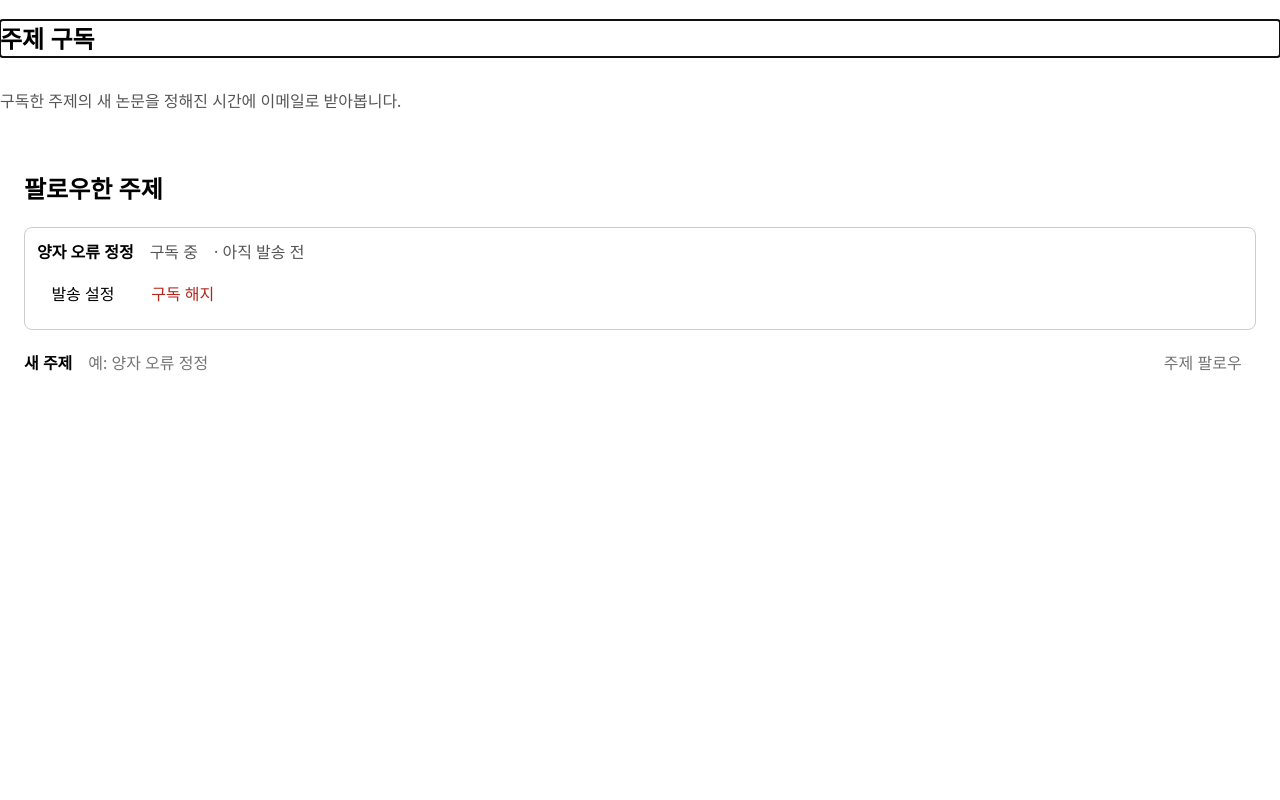
digest settings form › offers a reload on a stale revision instead of an overwriting retry
Click the button with test id "settings-link". click: (83, 295)
box: left=37, top=273, right=129, bottom=317
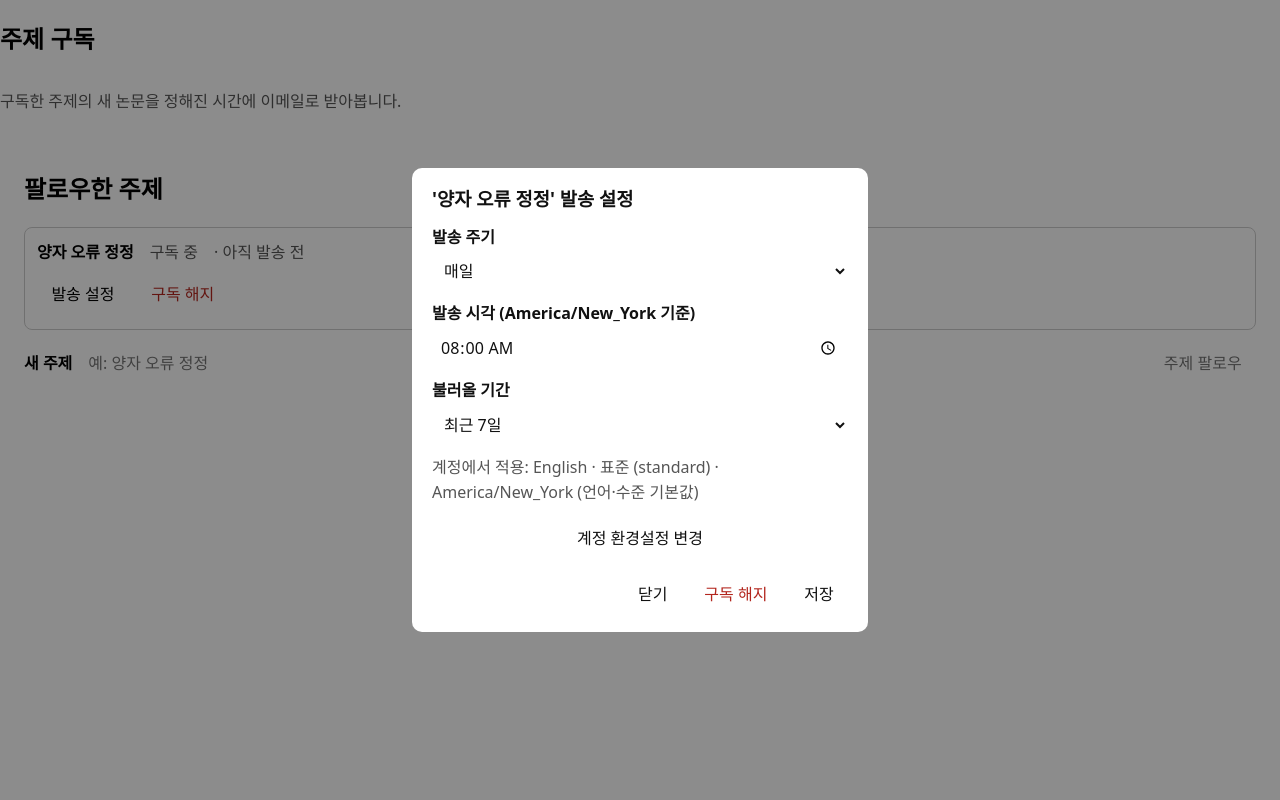
expect the dialog with test id "settings-form" is shown: met, box left=412, top=168, right=868, bottom=632
Click the button with test id "save-button". click: (819, 594)
box: left=790, top=572, right=848, bottom=616
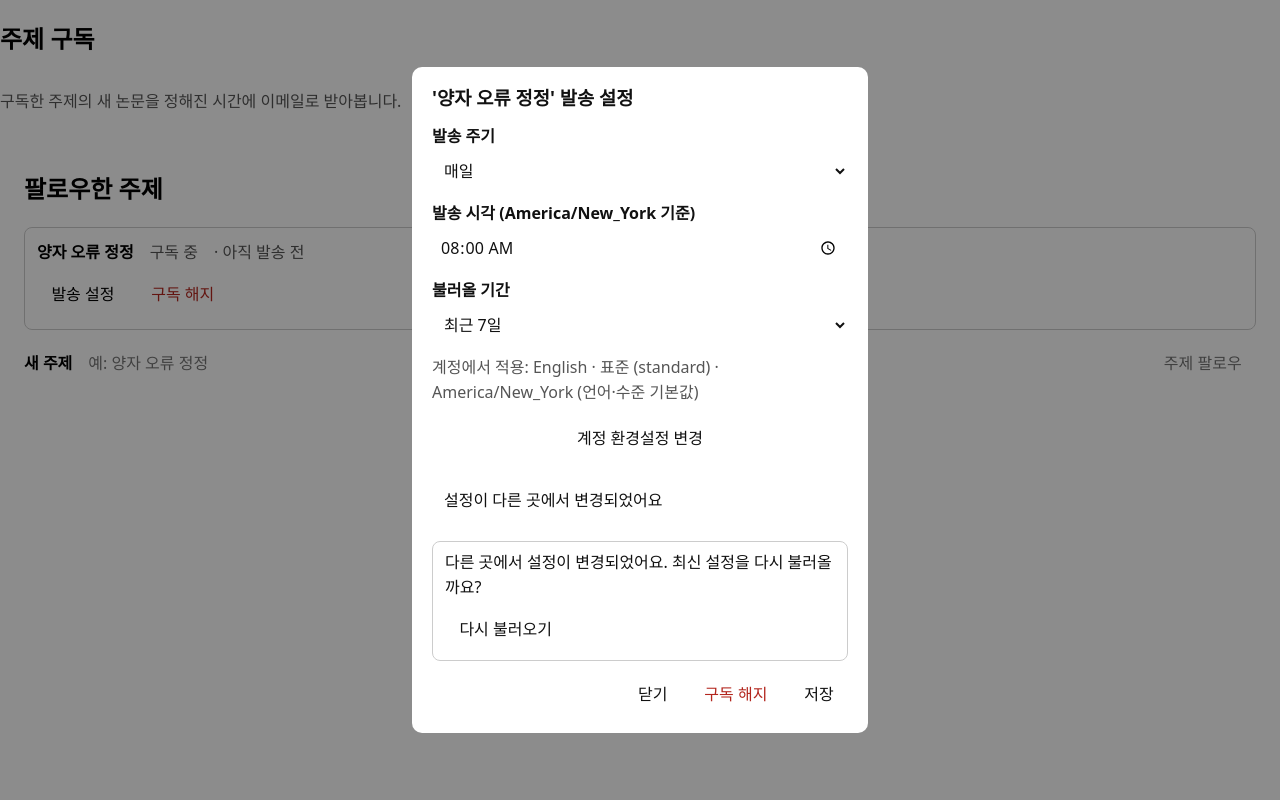
expect the element with test id "stale-offer" is shown: met, box left=432, top=541, right=848, bottom=661
Click the button with test id "stale-reload". click: (506, 630)
box: left=445, top=608, right=566, bottom=652
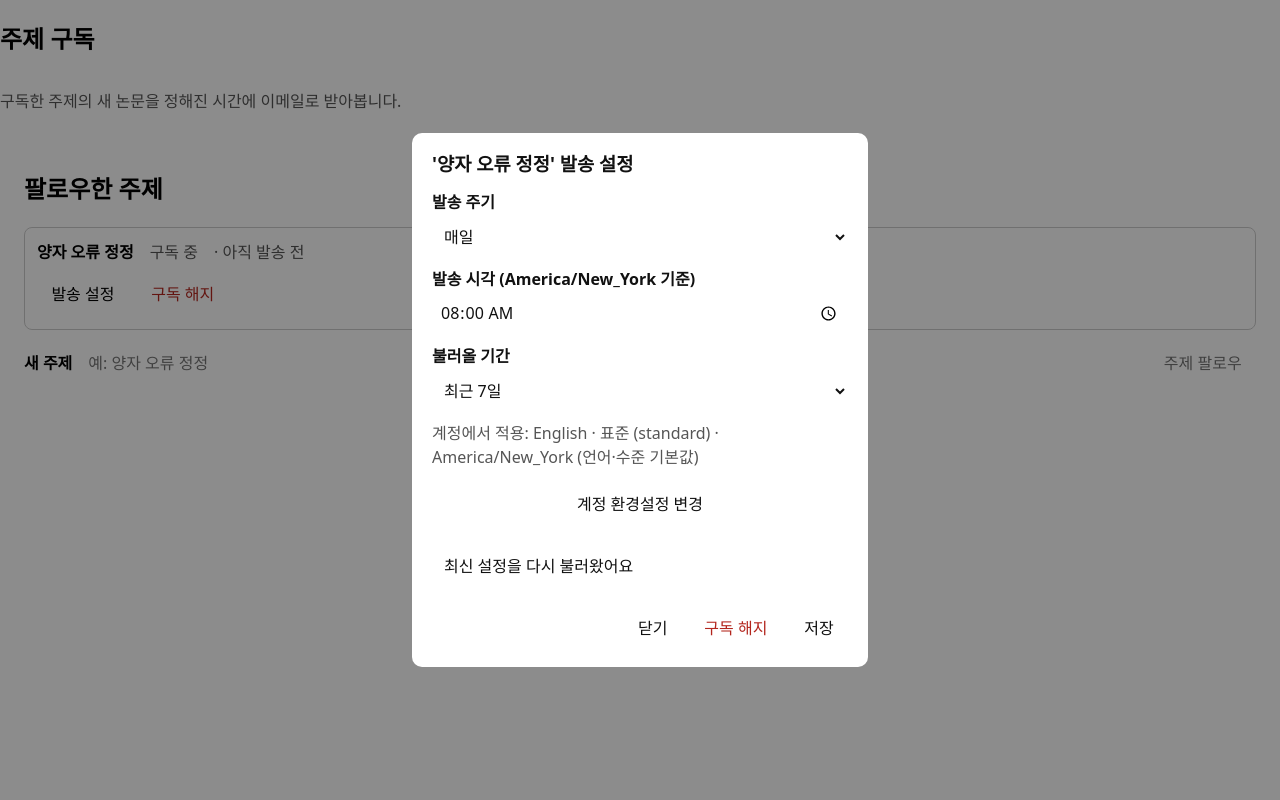
expect the text "최신 설정을 다시 불러왔어요" is shown: met, box left=444, top=555, right=633, bottom=577
